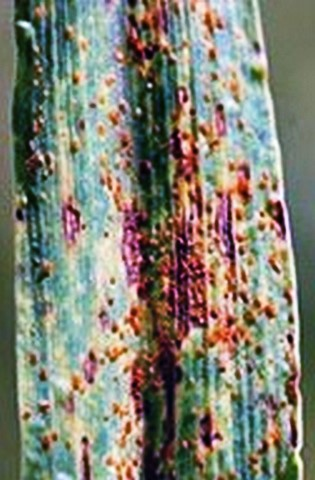Leaf Rust: (1, 74, 309, 408)
